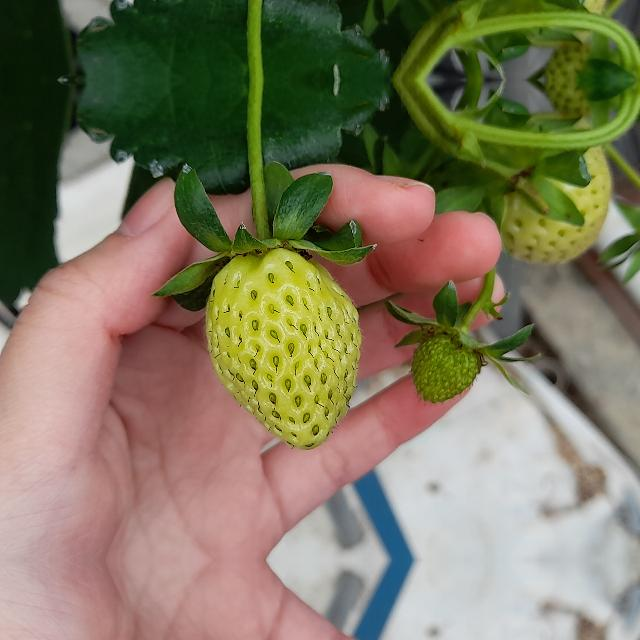Health_25: (205, 247, 361, 449), (409, 326, 483, 404)
